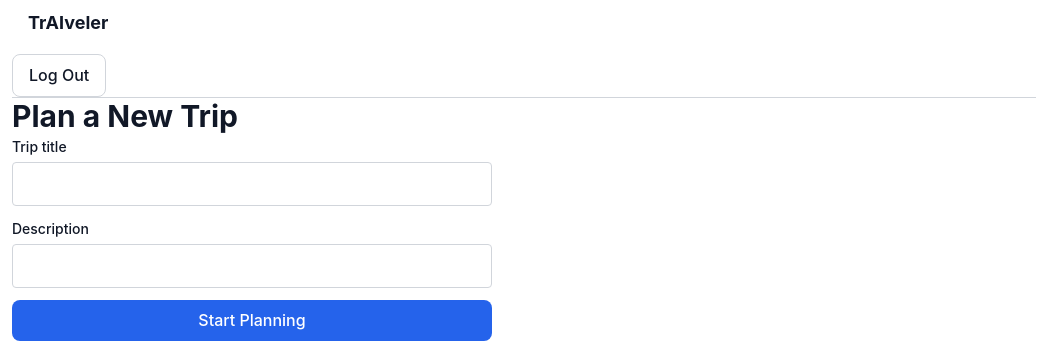
<GeneratePage /> › when the trip is created successfully › should hide the form and show the conversation panel
The width and height of the screenshot is (1048, 358).
Type "Two weeks in Japan" into the field labelled "Trip title".
click(252, 184); type("Two weeks in Japan")  # box [12,162,492,206]
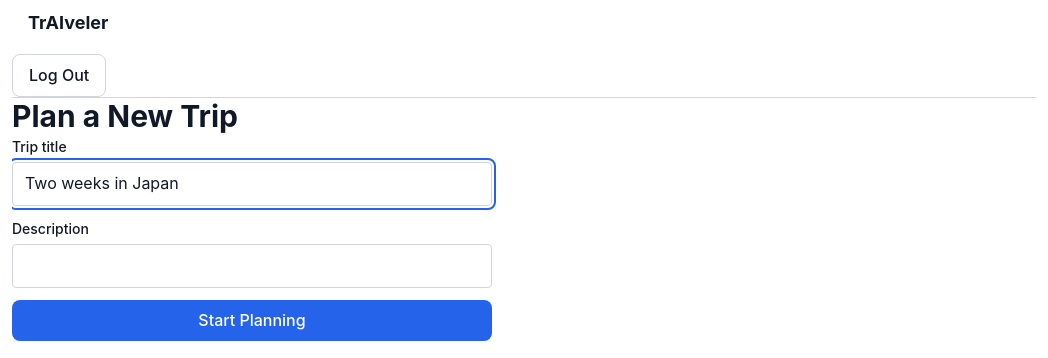
Click the button "Start Planning".
click(252, 321)  # box [12,300,492,342]
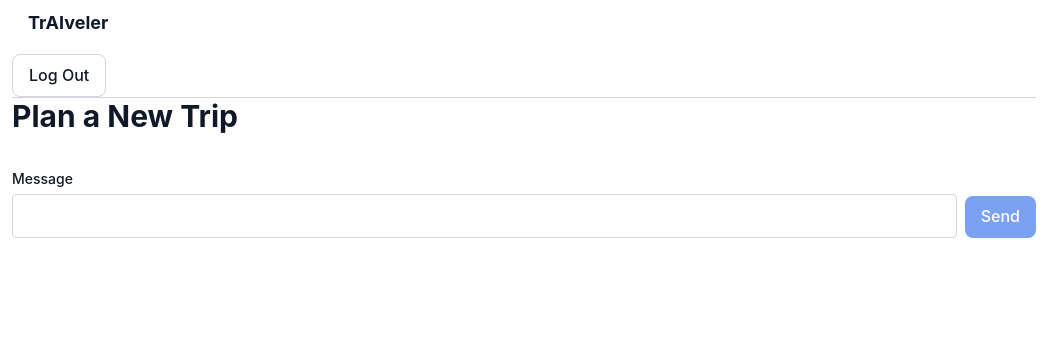
Expected: the button "Start Planning" is gone
